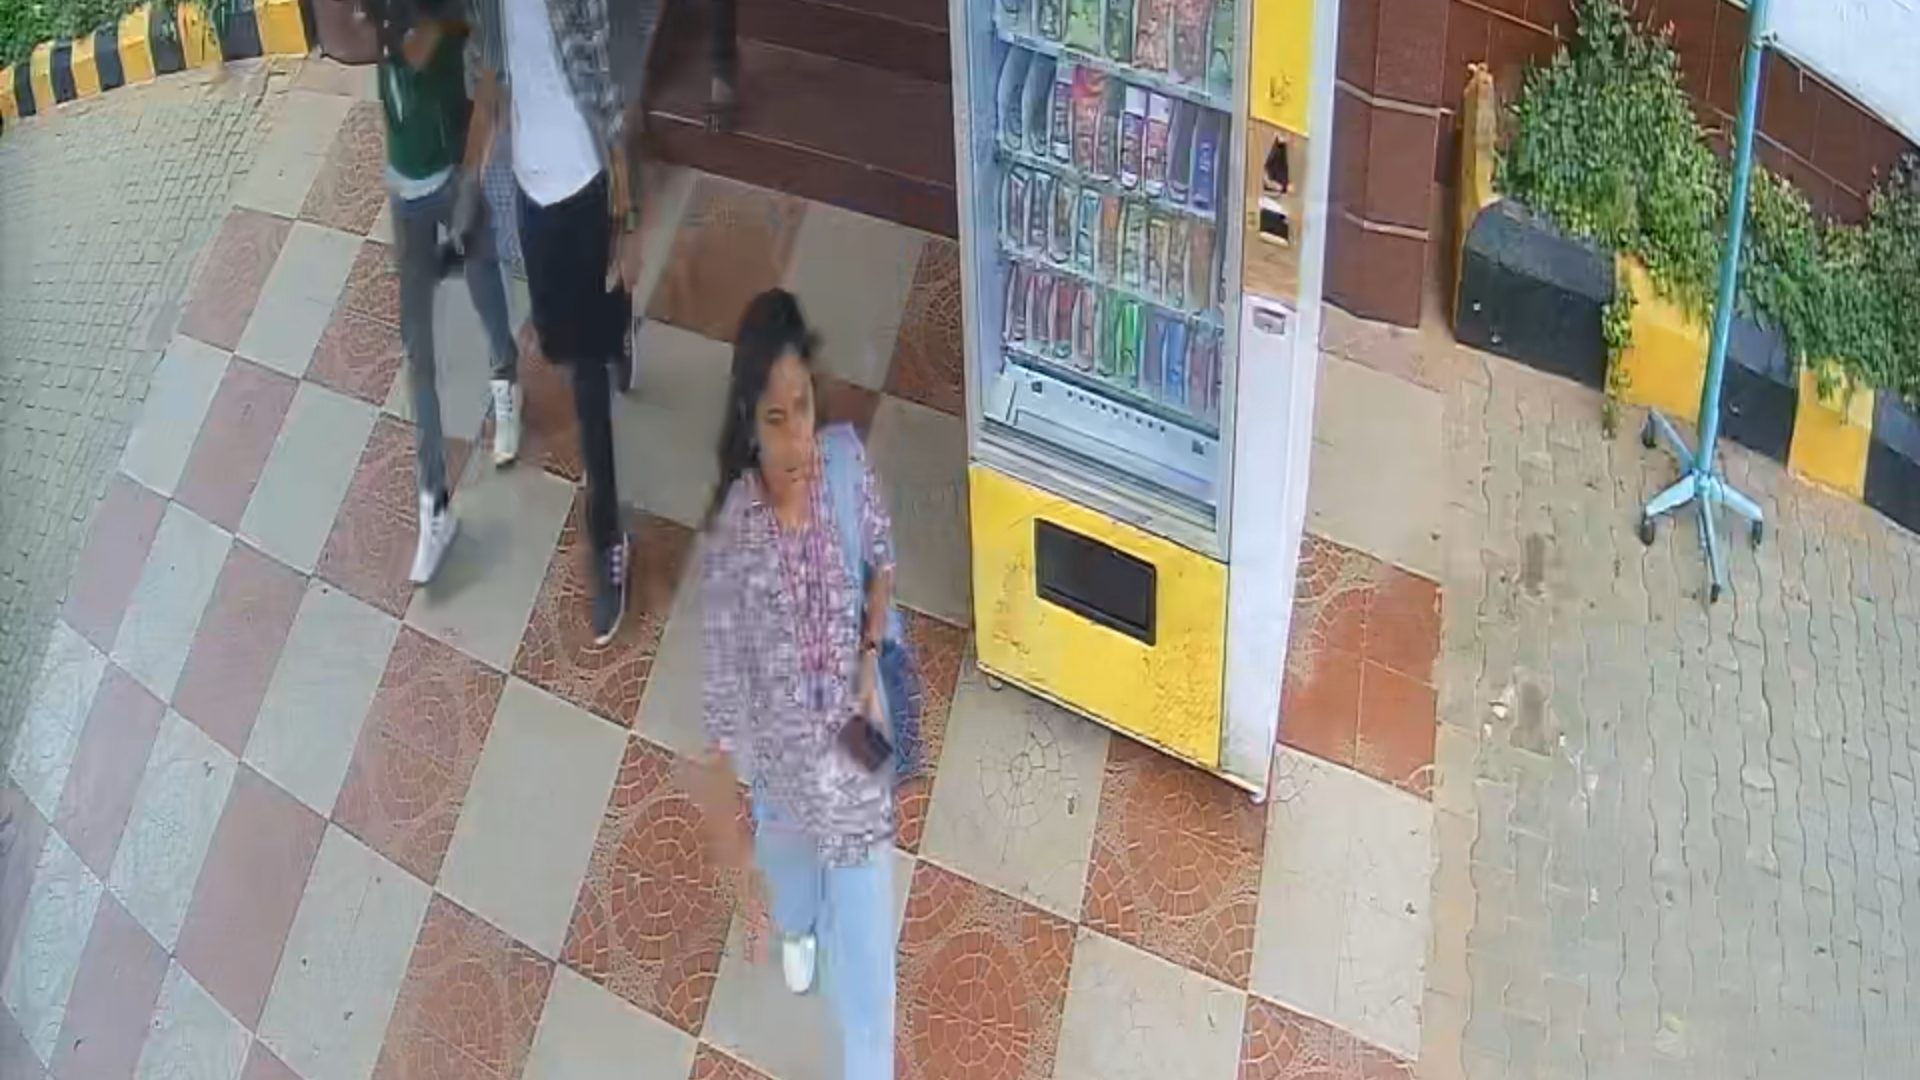not intruder: (691, 301, 935, 1080)
